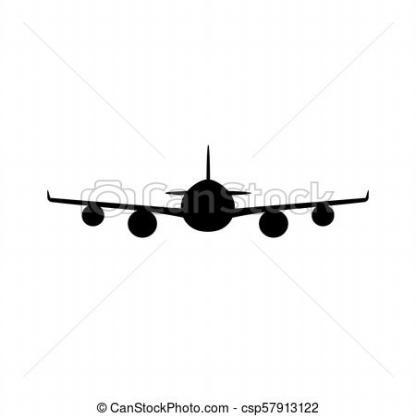CIV_Plane: (36, 138, 376, 250)
